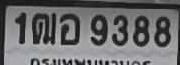1: (14, 11, 25, 43)
3: (111, 14, 127, 45)
8: (153, 15, 170, 46), (132, 14, 148, 46)
9: (90, 14, 107, 44)
A18: (31, 12, 55, 44)
A43: (59, 13, 79, 44)
